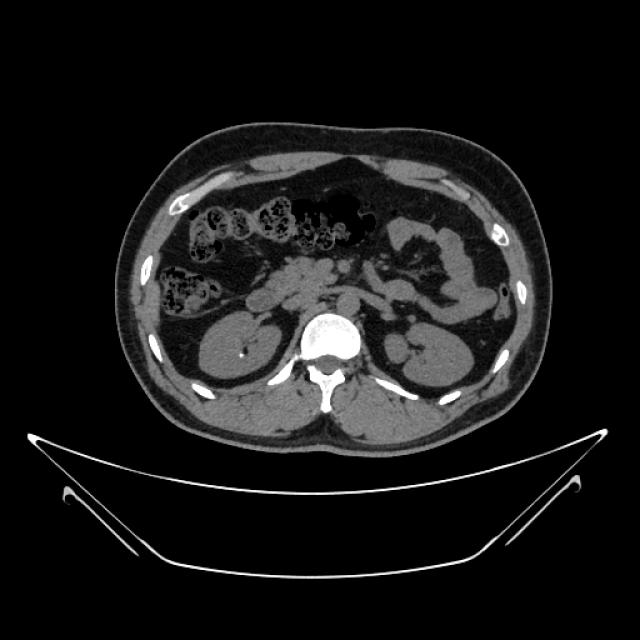kidneystone: (238, 349, 248, 358)
